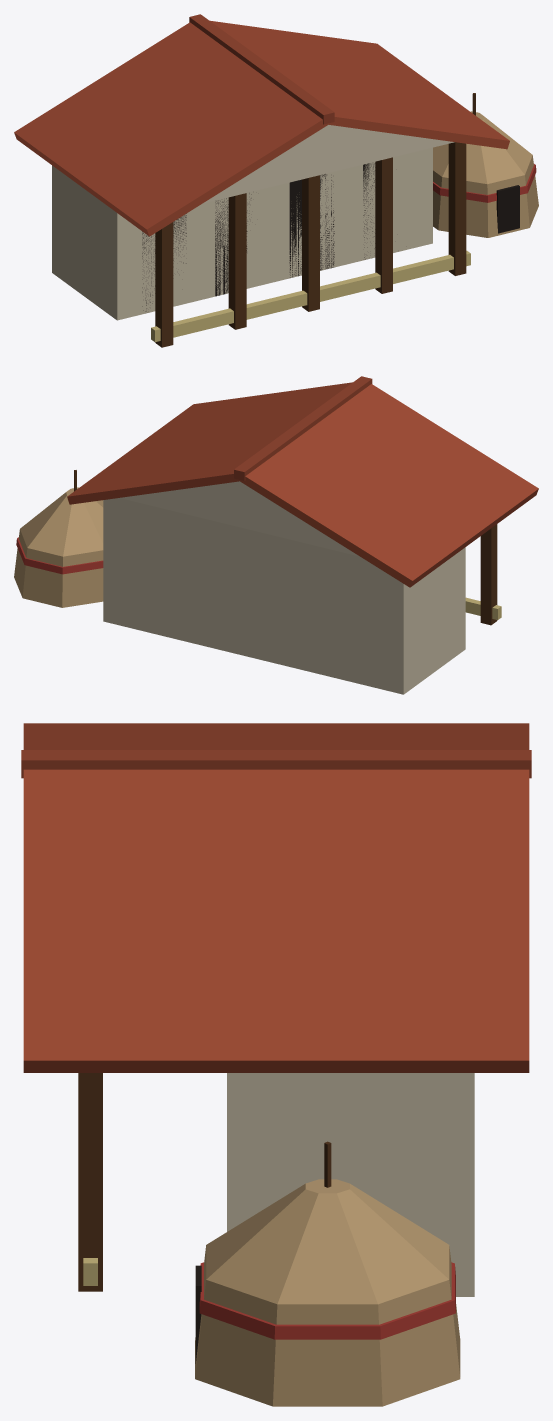
File: centaur_hall.glb
3 renders of one model, top to bottom at view 1: azimuth 30°, elevation 25°; view 2: azimuth 150°, elevation 25°; view 3: azimuth 270°, elevation 25°, orthographic. The views are drawn at different scales.
Visible parts, largest first — view 1: centaur_hall; view 2: centaur_hall; view 3: centaur_hall.
Boxes of the visible parts, box(x1,y1,x2,y2) form: centaur_hall: box(14, 14, 538, 347); centaur_hall: box(14, 376, 538, 694); centaur_hall: box(21, 723, 531, 1406).
Size of the model in its own units: 5.88 by 2.55 by 2.99.
